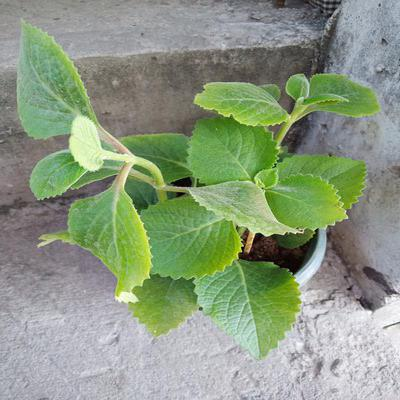Oregano: (106, 75, 372, 334)
